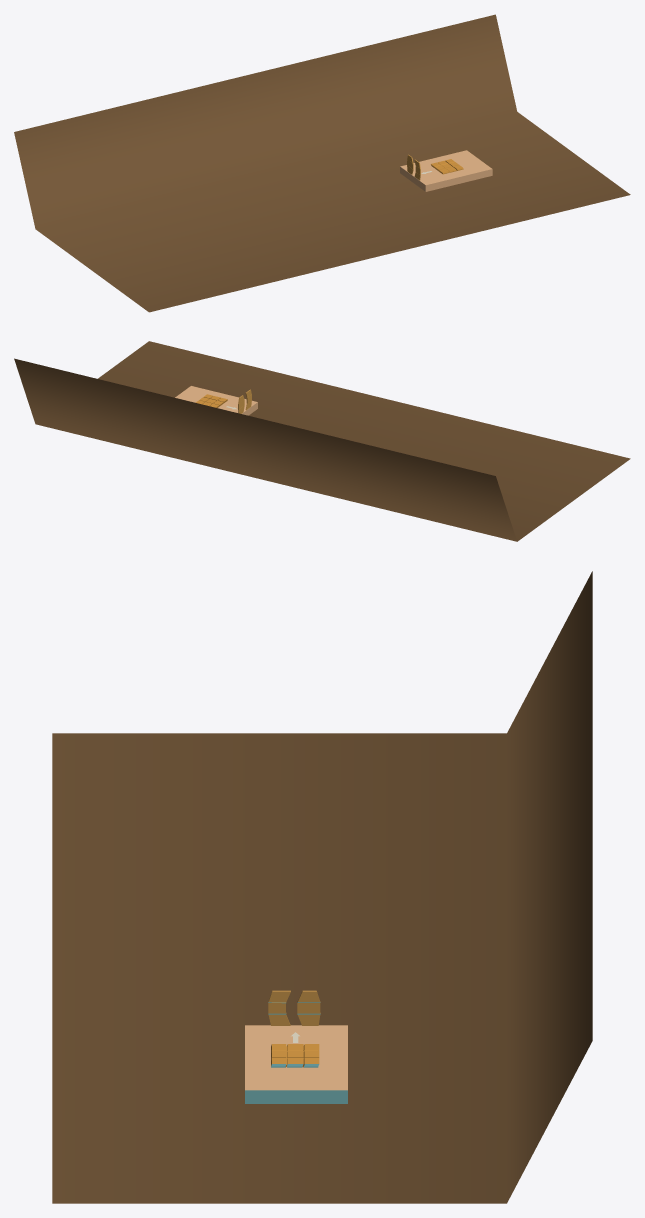
Rendered from birth.fbx.
The picture shows the model from 3 angles, top to bottom: view 1: azimuth 30°, elevation 25°; view 2: azimuth 150°, elevation 25°; view 3: azimuth 270°, elevation 25°; orthographic projection. The views are drawn at different scales.
Parts seen in each view (by area): view 1: pCube126, polySurface4, polySurface3; view 2: pCube126, polySurface4; view 3: pCube126, polySurface4, polySurface2, polySurface5.
Boxes of the visible parts, left/top/right/bottom form: pCube126: left=14, top=14, right=630, bottom=312; polySurface4: left=400, top=150, right=491, bottom=184; polySurface3: left=400, top=166, right=492, bottom=191; pCube126: left=14, top=341, right=630, bottom=541; polySurface4: left=175, top=386, right=257, bottom=413; pCube126: left=52, top=571, right=592, bottom=1203; polySurface4: left=245, top=1025, right=347, bottom=1090; polySurface2: left=245, top=1090, right=347, bottom=1103; polySurface5: left=271, top=1044, right=319, bottom=1067.
Bounding box in the file's own units: 54.94 × 8.88 × 26.69.
